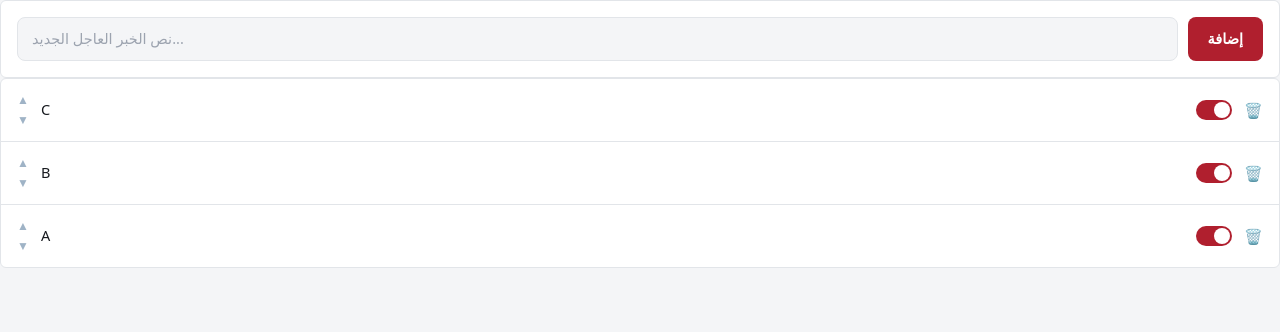
Scenario: BreakingManager move › reverts the list and reports the failure when a PATCH is rejected
Click the 2nd text "▲" at (23,163), box [17,154,29,172]
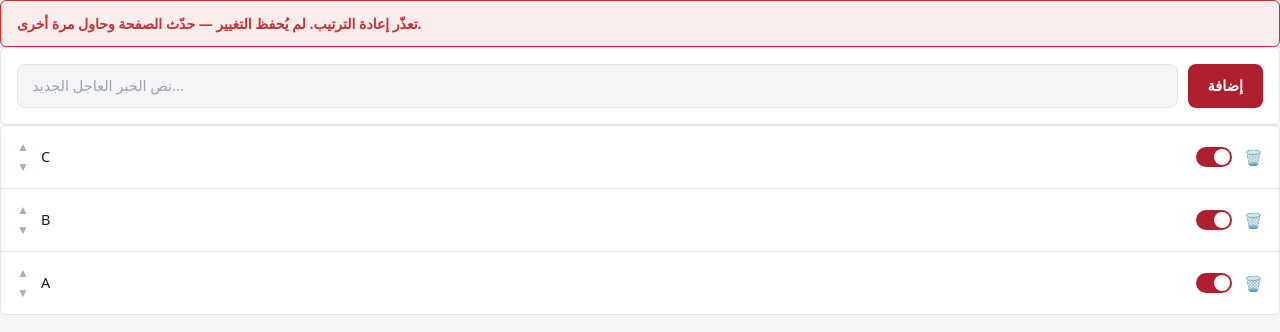
Expected: the message shows "تعذّر إعادة الترتيب", [17,14,422,33]
